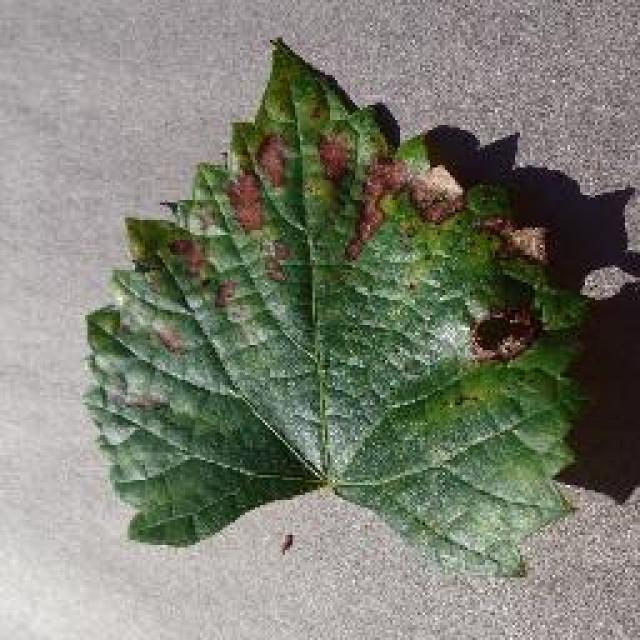Black_Measles: (69, 25, 625, 583)
